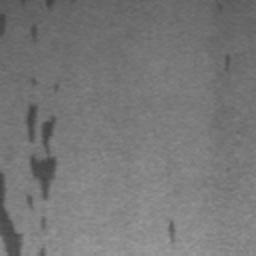Red iron sheet: (26, 104, 58, 200), (0, 170, 24, 256), (0, 12, 8, 37), (168, 219, 175, 242), (29, 23, 38, 40), (42, 0, 56, 10), (26, 193, 33, 210), (224, 55, 230, 74), (37, 246, 47, 256), (54, 83, 60, 91)
